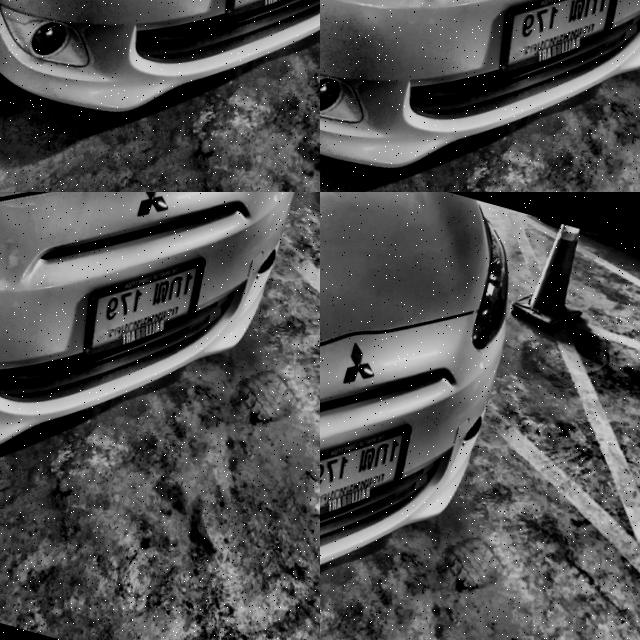license-plate: (125, 429, 295, 575), (320, 392, 417, 545)
